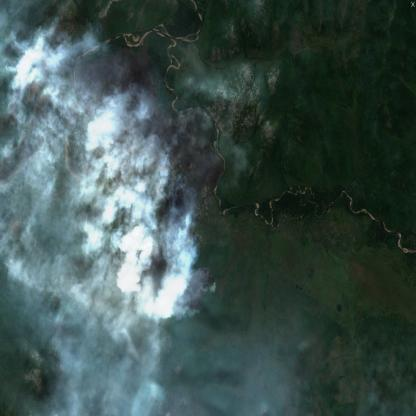fire: (121, 189, 220, 330)
